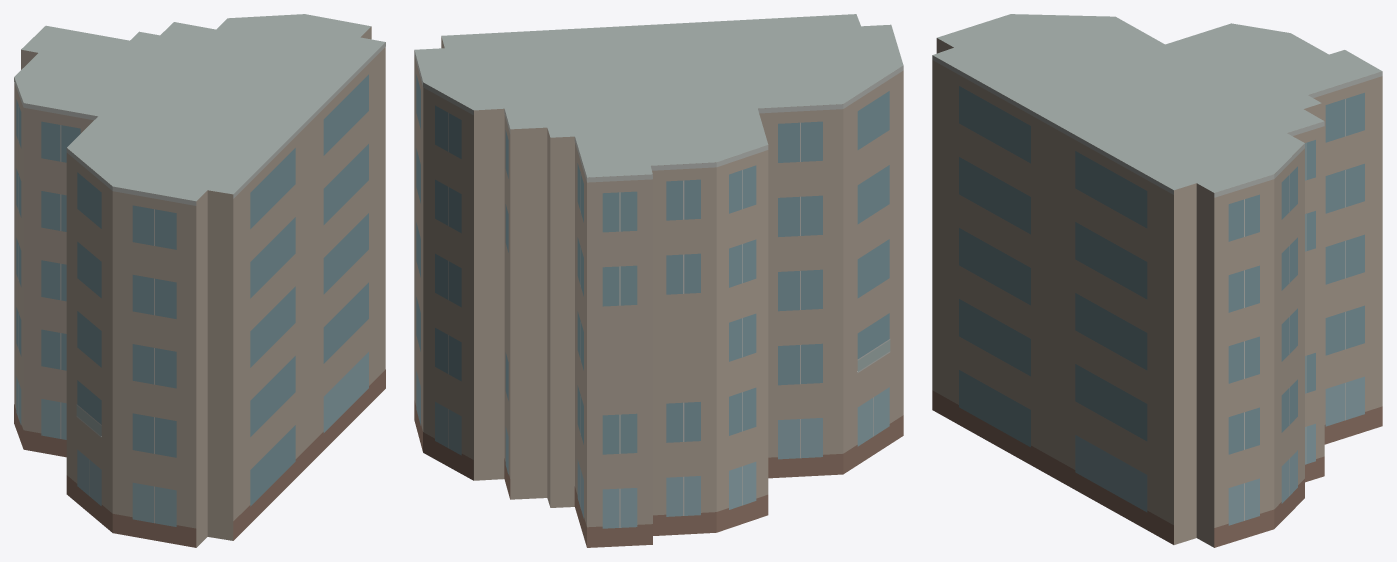
Rendered from survey-upis-32511683.glb.
The picture shows the model from 3 angles, left to right: view 1: azimuth 30°, elevation 25°; view 2: azimuth 150°, elevation 25°; view 3: azimuth 270°, elevation 25°; orthographic projection. The views are drawn at different scales.
Visible parts, largest first — view 1: survey-upis-32511683.tmp; view 2: survey-upis-32511683.tmp; view 3: survey-upis-32511683.tmp.
Boxes of the visible parts, x1=… form: survey-upis-32511683.tmp: x1=14, y1=14, x2=385, y2=547; survey-upis-32511683.tmp: x1=414, y1=14, x2=903, y2=547; survey-upis-32511683.tmp: x1=932, y1=14, x2=1382, y2=547.
Size of the model in its own units: 19.45 by 17.97 by 20.67.
